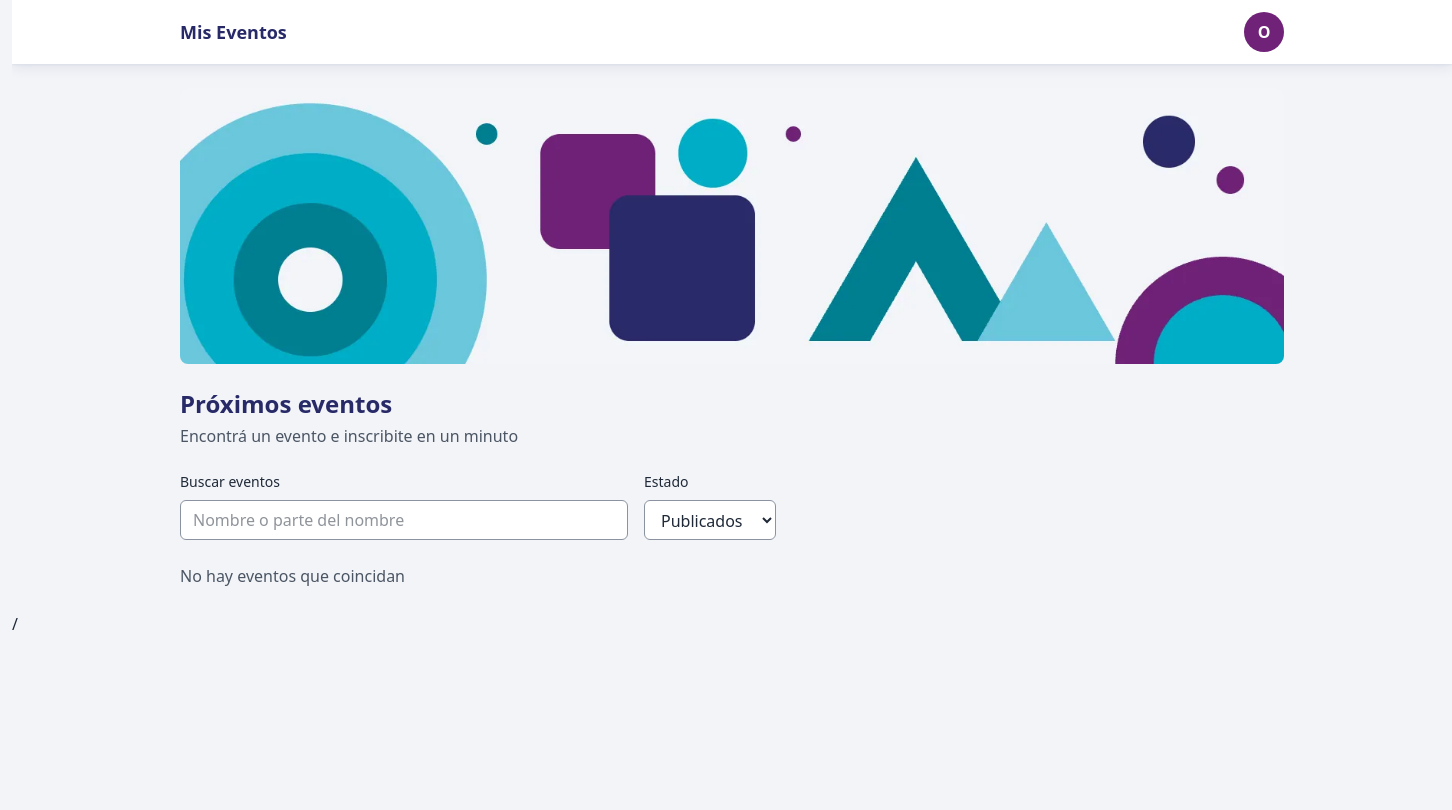
Scenario: el menú de la cuenta tiene el nombre y el email como encabezado, y las tres opciones
This screenshot has width=1452, height=810.
Click the button named "Menú de la cuenta".
click(1264, 32)  # box [1244,12,1284,52]
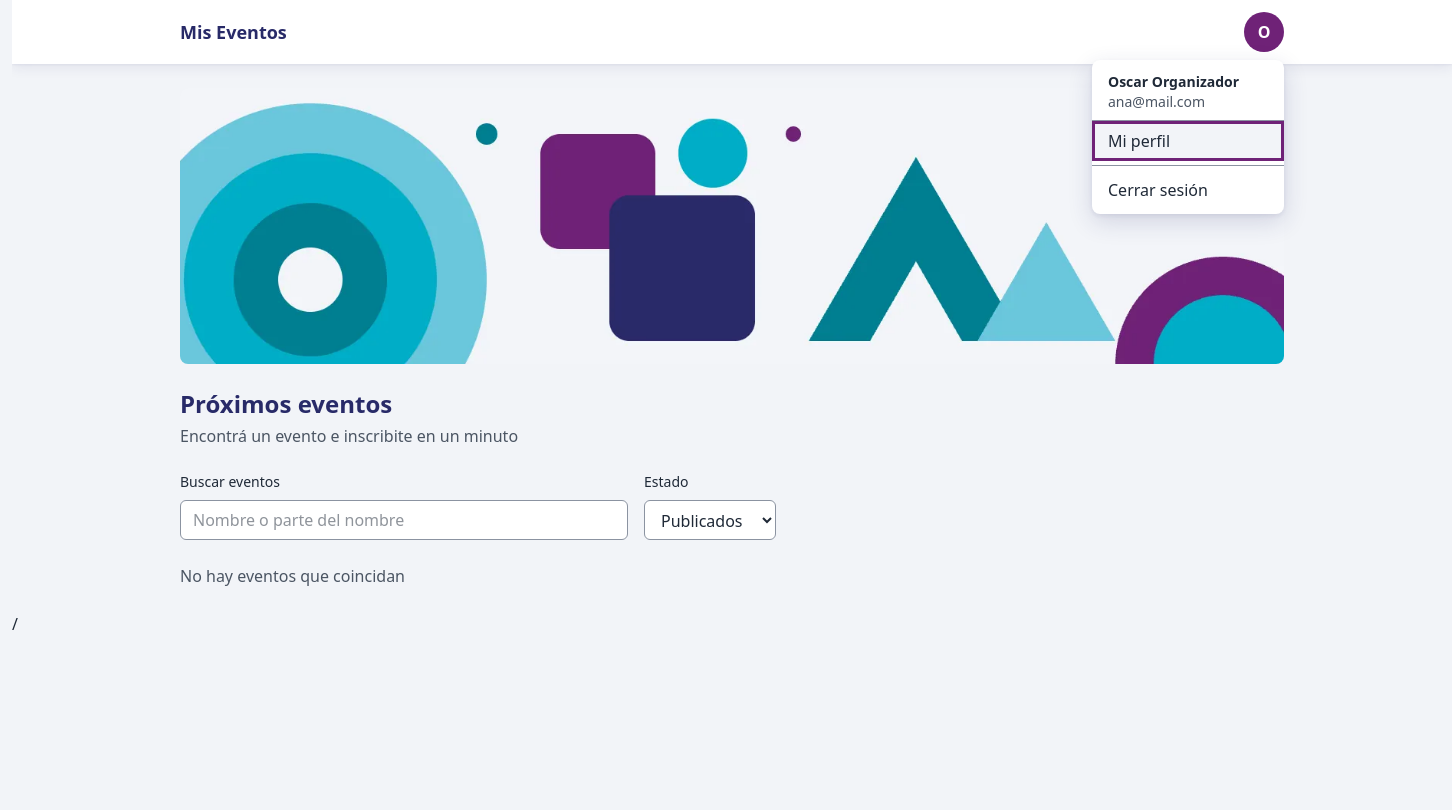
Check: the text "Oscar Organizador" is shown, box [1108,72,1239,91]
Check: the text "ana@mail.com" is shown, box [1108,92,1205,111]
Check: the menu items read "Mi perfil", "Cerrar sesión", in this order, box [1092,121,1284,161]; [1092,170,1284,210]
